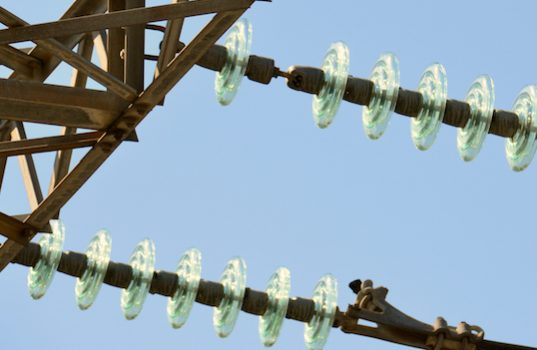gap: (214, 16, 351, 129)
isolator: (212, 15, 537, 173), (25, 218, 338, 350)
